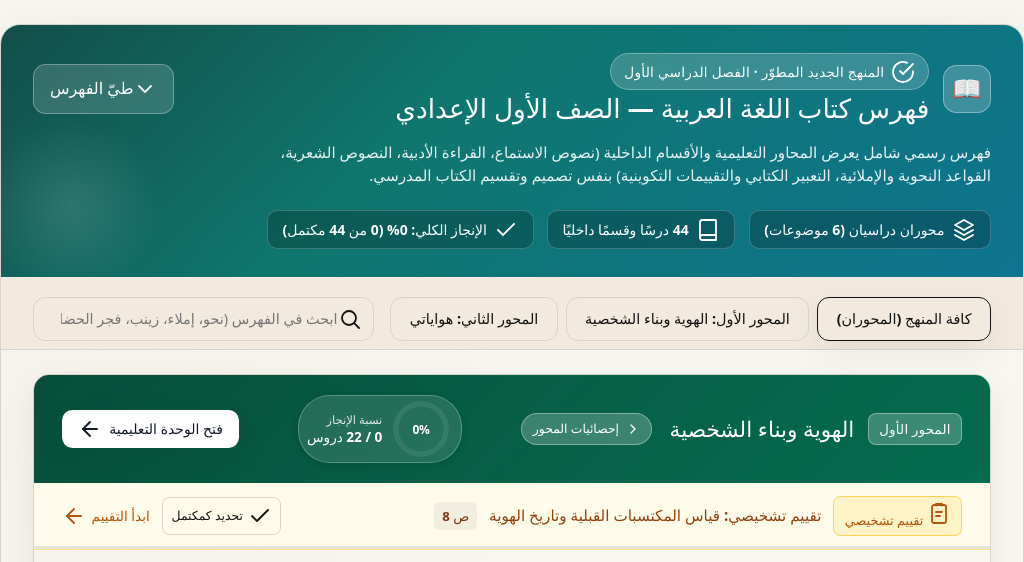
Test: الرأس القابل للتوسيع وإحصائيات المحور (.prep1-theme-header expandable) › يفتح القائمة المنسدلة للإحصائيات السريعة عند النقر على .prep1-theme-header
النقر على الهيدر
Click the button with aria-label "انقر لعرض إحصائيات سريعة عن دروس المحور" at point(915, 429), box [34,375,990,483]
(page scrolled)
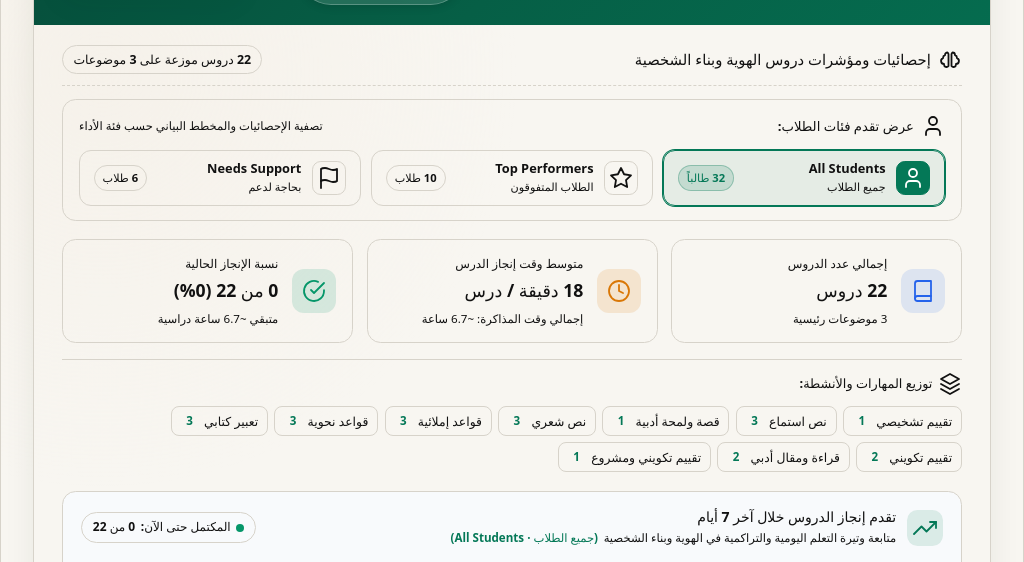
Expected: the text "إجمالي عدد الدروس" is shown, [788,254,887,274]
Expected: the text "متوسط وقت إنجاز الدرس" is shown, [455,255,583,272]
Expected: the text "نسبة الإنجاز الحالية" is shown, [185,255,278,272]
